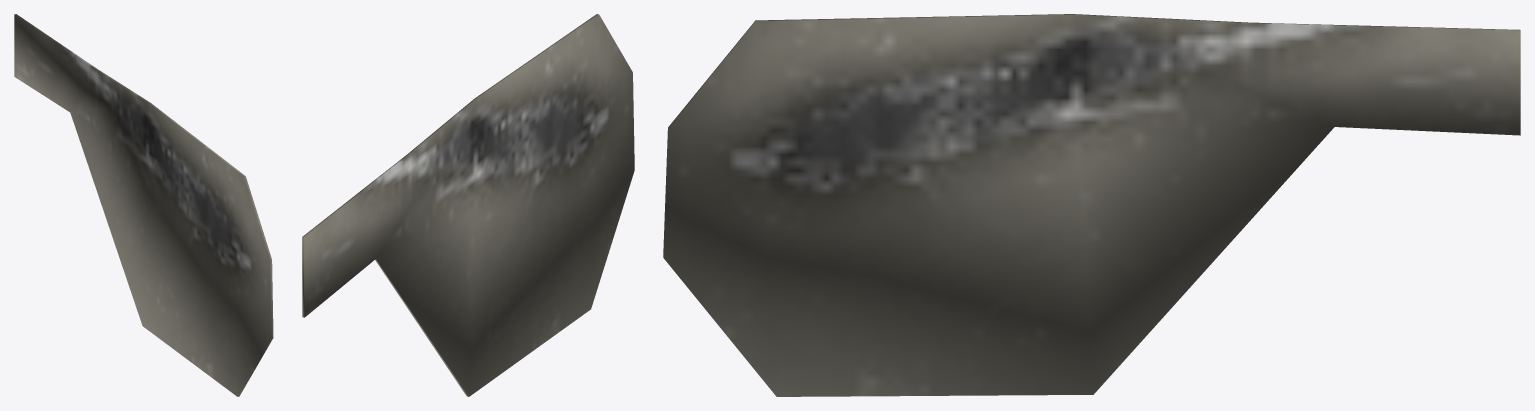
The model's file is Debris.fbx.
3 views of the same model, side by side, from view 1: azimuth 30°, elevation 25°; view 2: azimuth 150°, elevation 25°; view 3: azimuth 270°, elevation 25° (orthographic). The views are drawn at different scales.
Visible parts, largest first — view 1: Spacehip_Exterior.001; view 2: Spacehip_Exterior.001; view 3: Spacehip_Exterior.001.
Part boxes in pixels (x1,y1,x2,y2): Spacehip_Exterior.001: [14, 14, 273, 396]; Spacehip_Exterior.001: [302, 14, 634, 396]; Spacehip_Exterior.001: [663, 14, 1520, 396].
Bounding box in the file's own units: 0.3761 × 87.97 × 43.18.
